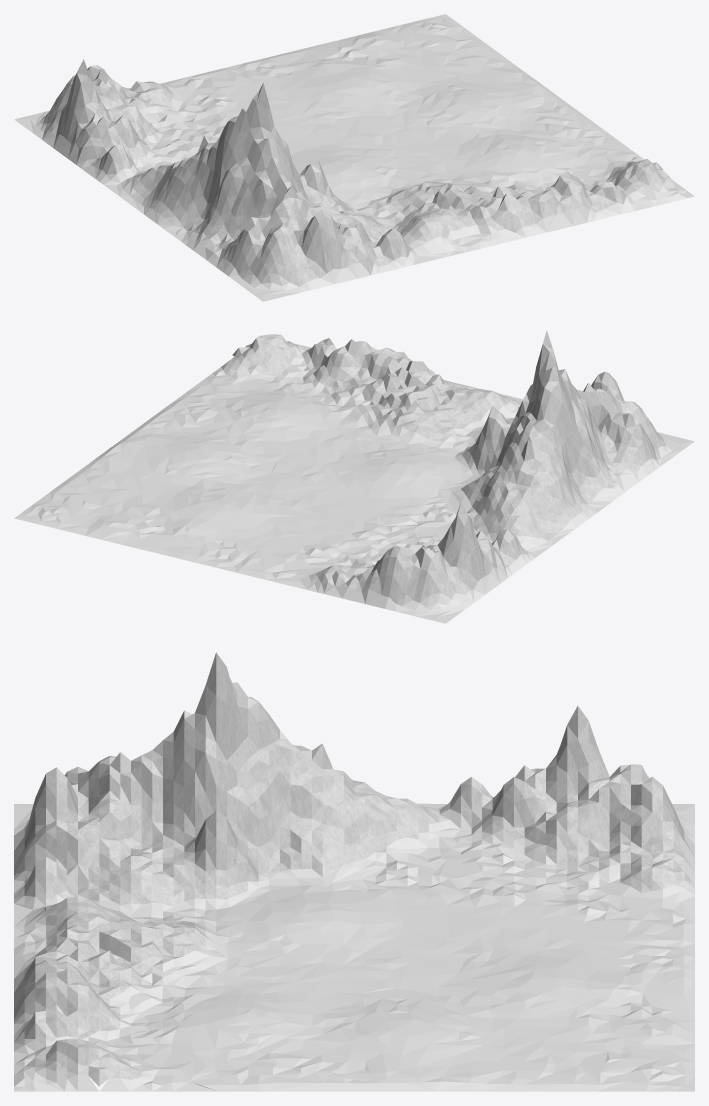
Rendered from Mountains 1.fbx.
3 views of the same model, one above another, from view 1: azimuth 30°, elevation 25°; view 2: azimuth 150°, elevation 25°; view 3: azimuth 270°, elevation 25° (orthographic). The views are drawn at different scales.
Visible parts, largest first — view 1: Grass, Rock, Snow; view 2: Grass, Rock, Snow; view 3: Grass, Rock, Snow.
Boxes of the visible parts, bbox=[...] form: Grass: bbox=[14, 14, 694, 301]; Rock: bbox=[47, 66, 668, 286]; Snow: bbox=[60, 59, 580, 236]; Grass: bbox=[14, 343, 694, 623]; Rock: bbox=[227, 334, 665, 606]; Snow: bbox=[334, 330, 618, 571]; Grass: bbox=[14, 802, 694, 1091]; Rock: bbox=[14, 730, 694, 1086]; Snow: bbox=[36, 652, 662, 998].
Size of the model in its own units: 40009 by 13045 by 40010.
